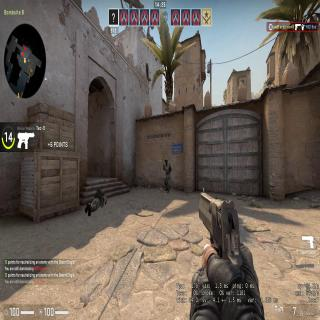CT-Body: (161, 157, 173, 193)
CT-Head: (165, 158, 168, 164)
